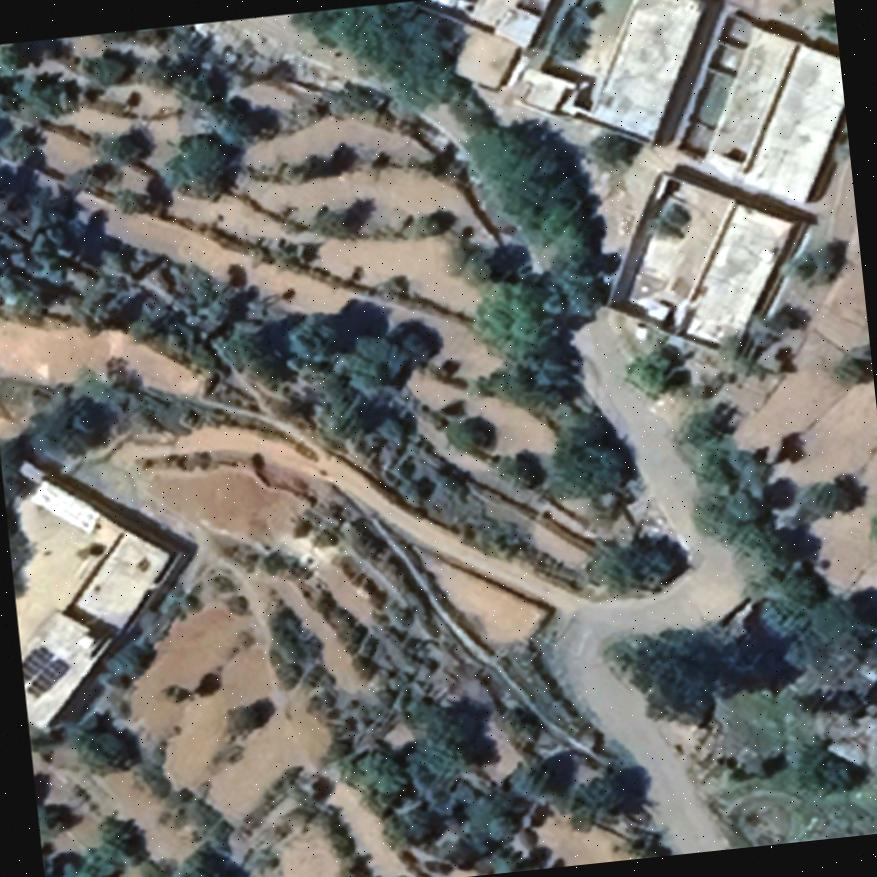Solarpanel: (20, 642, 70, 698)
